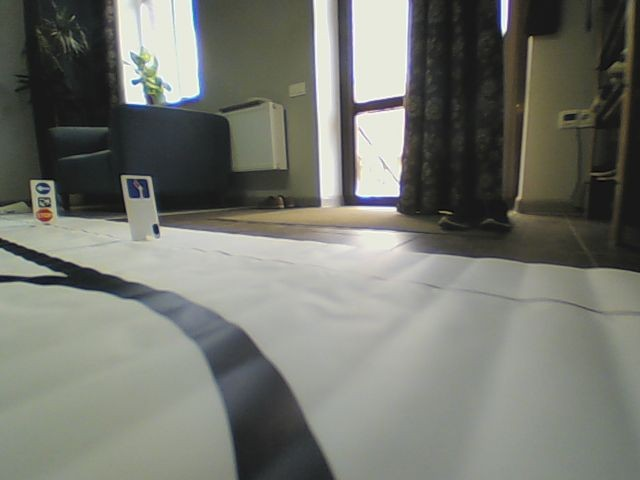priority_movement: (125, 176, 151, 200)
